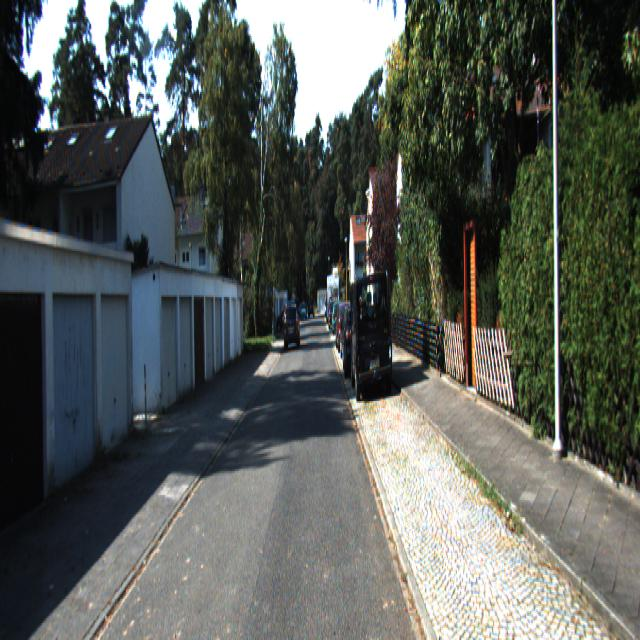Car: (348, 265, 392, 397), (283, 302, 300, 348)
